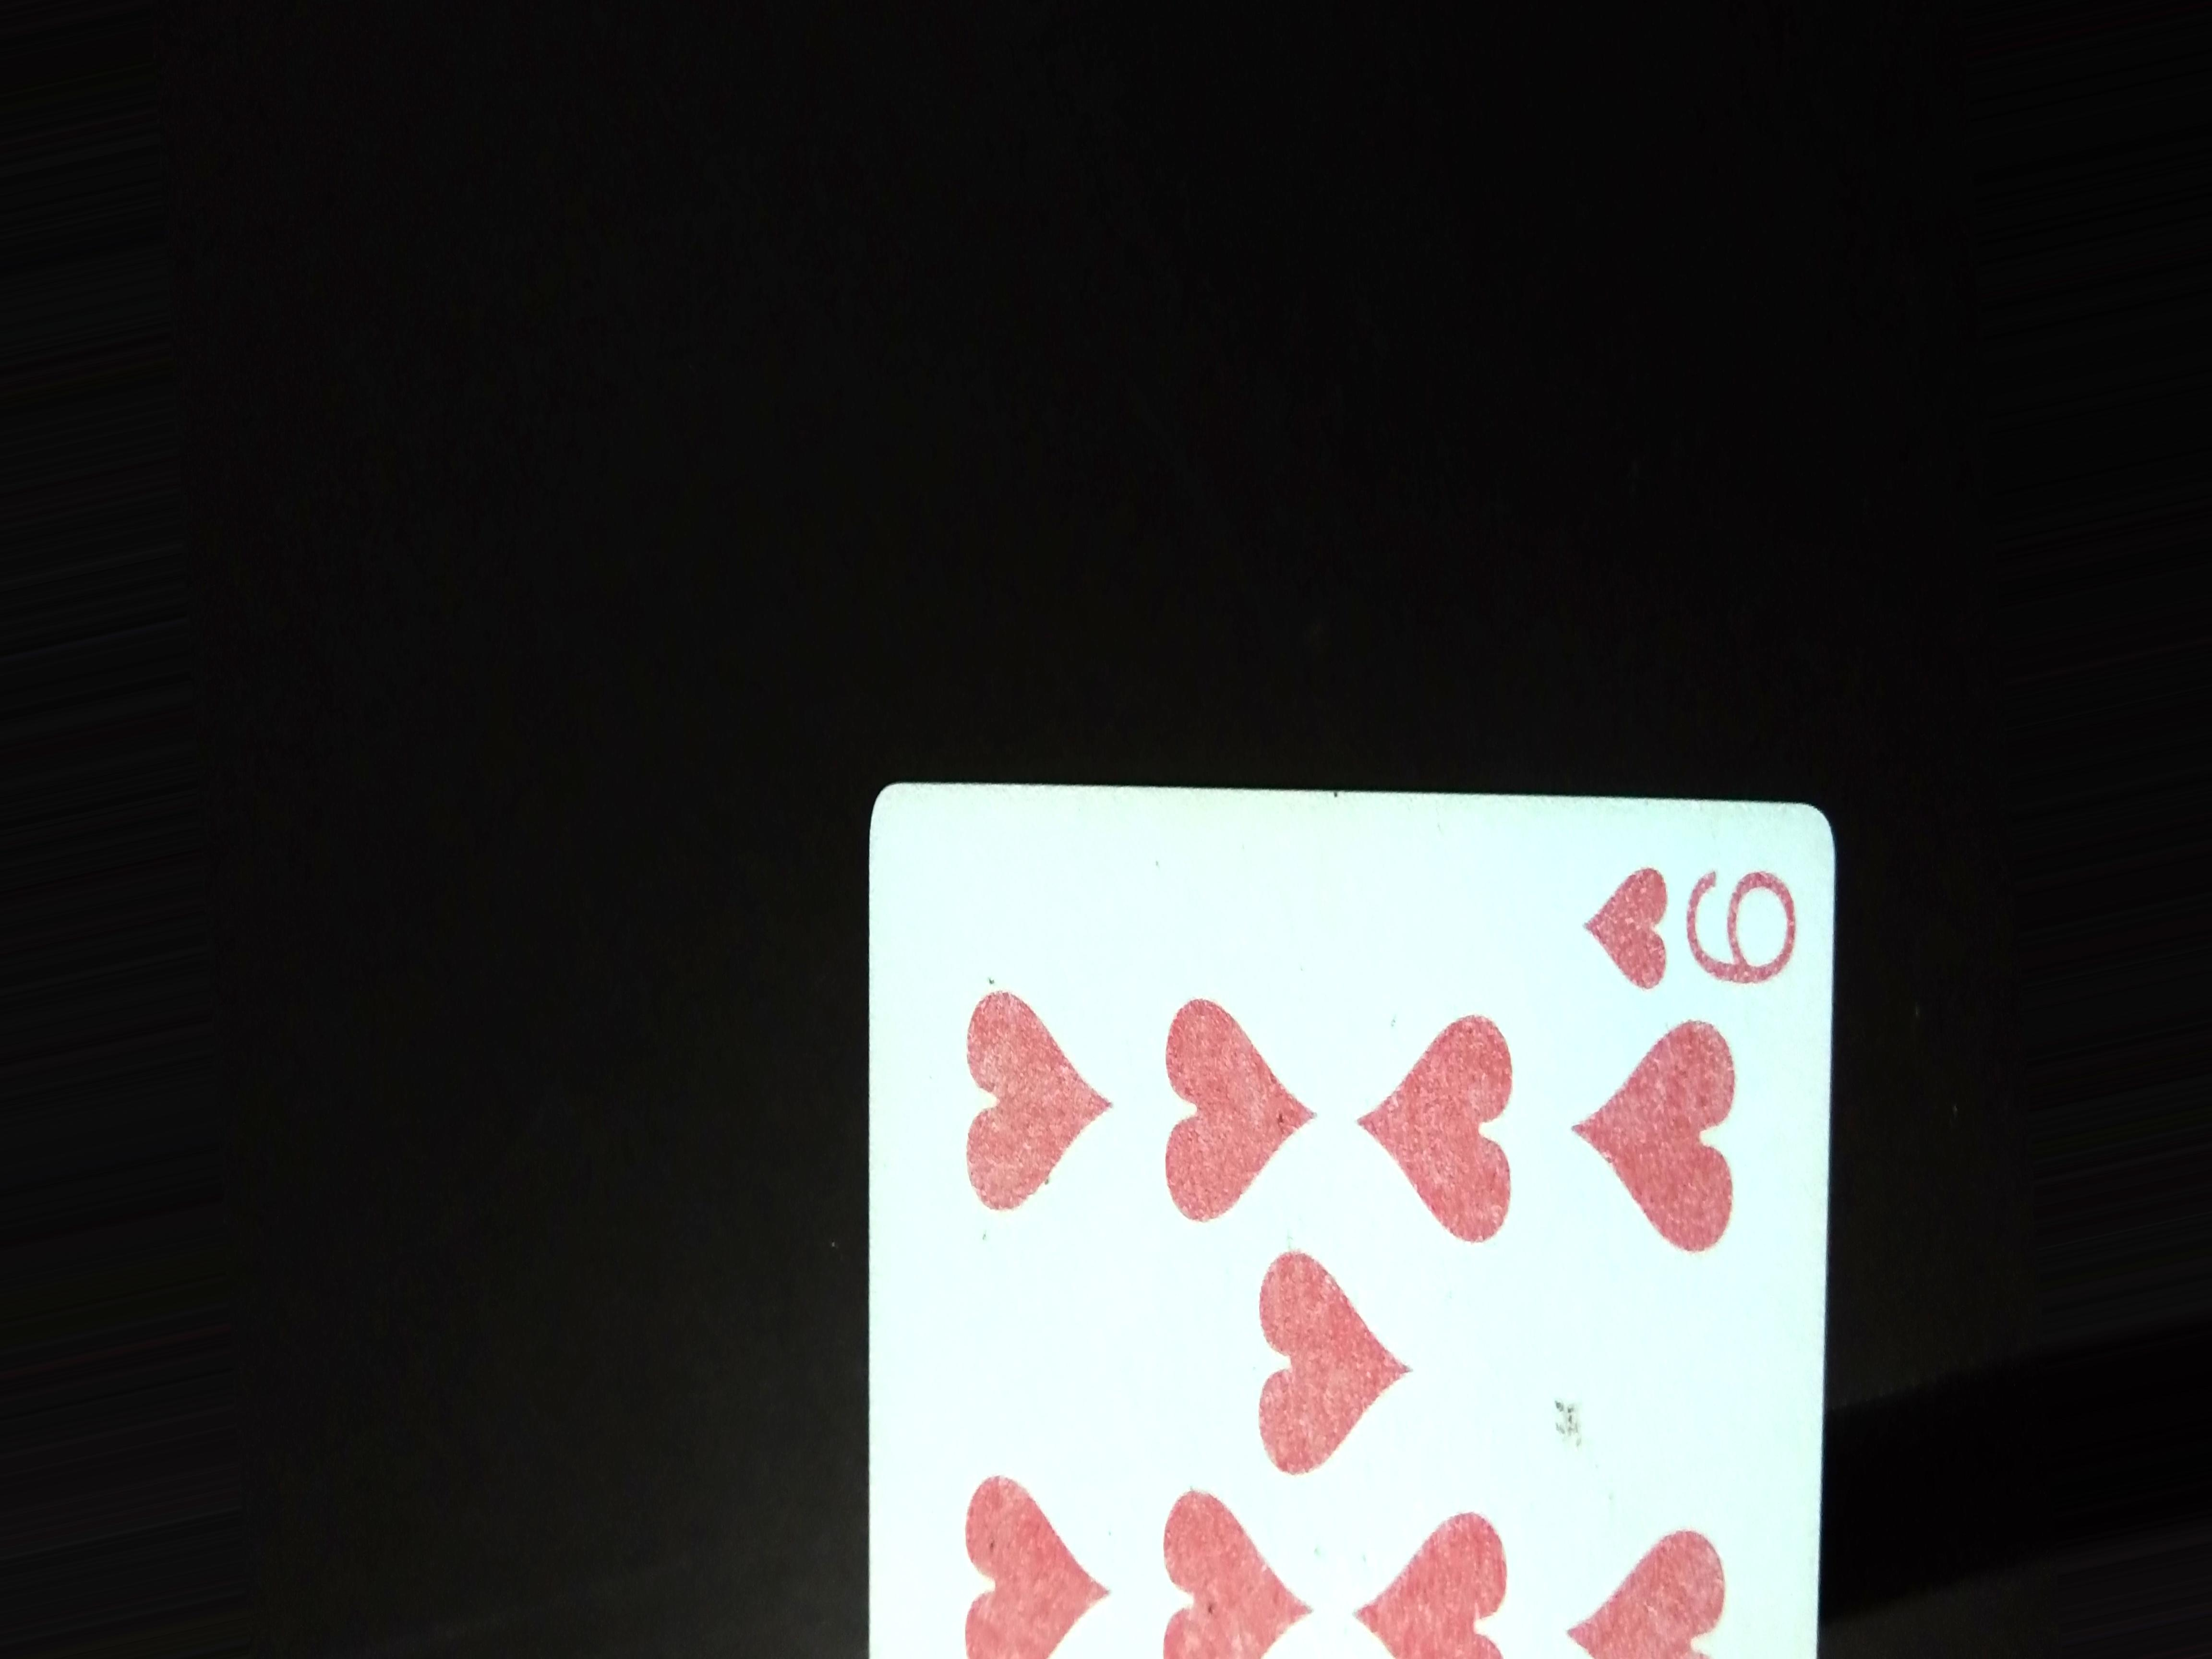9H: (1538, 829, 1836, 1019)
